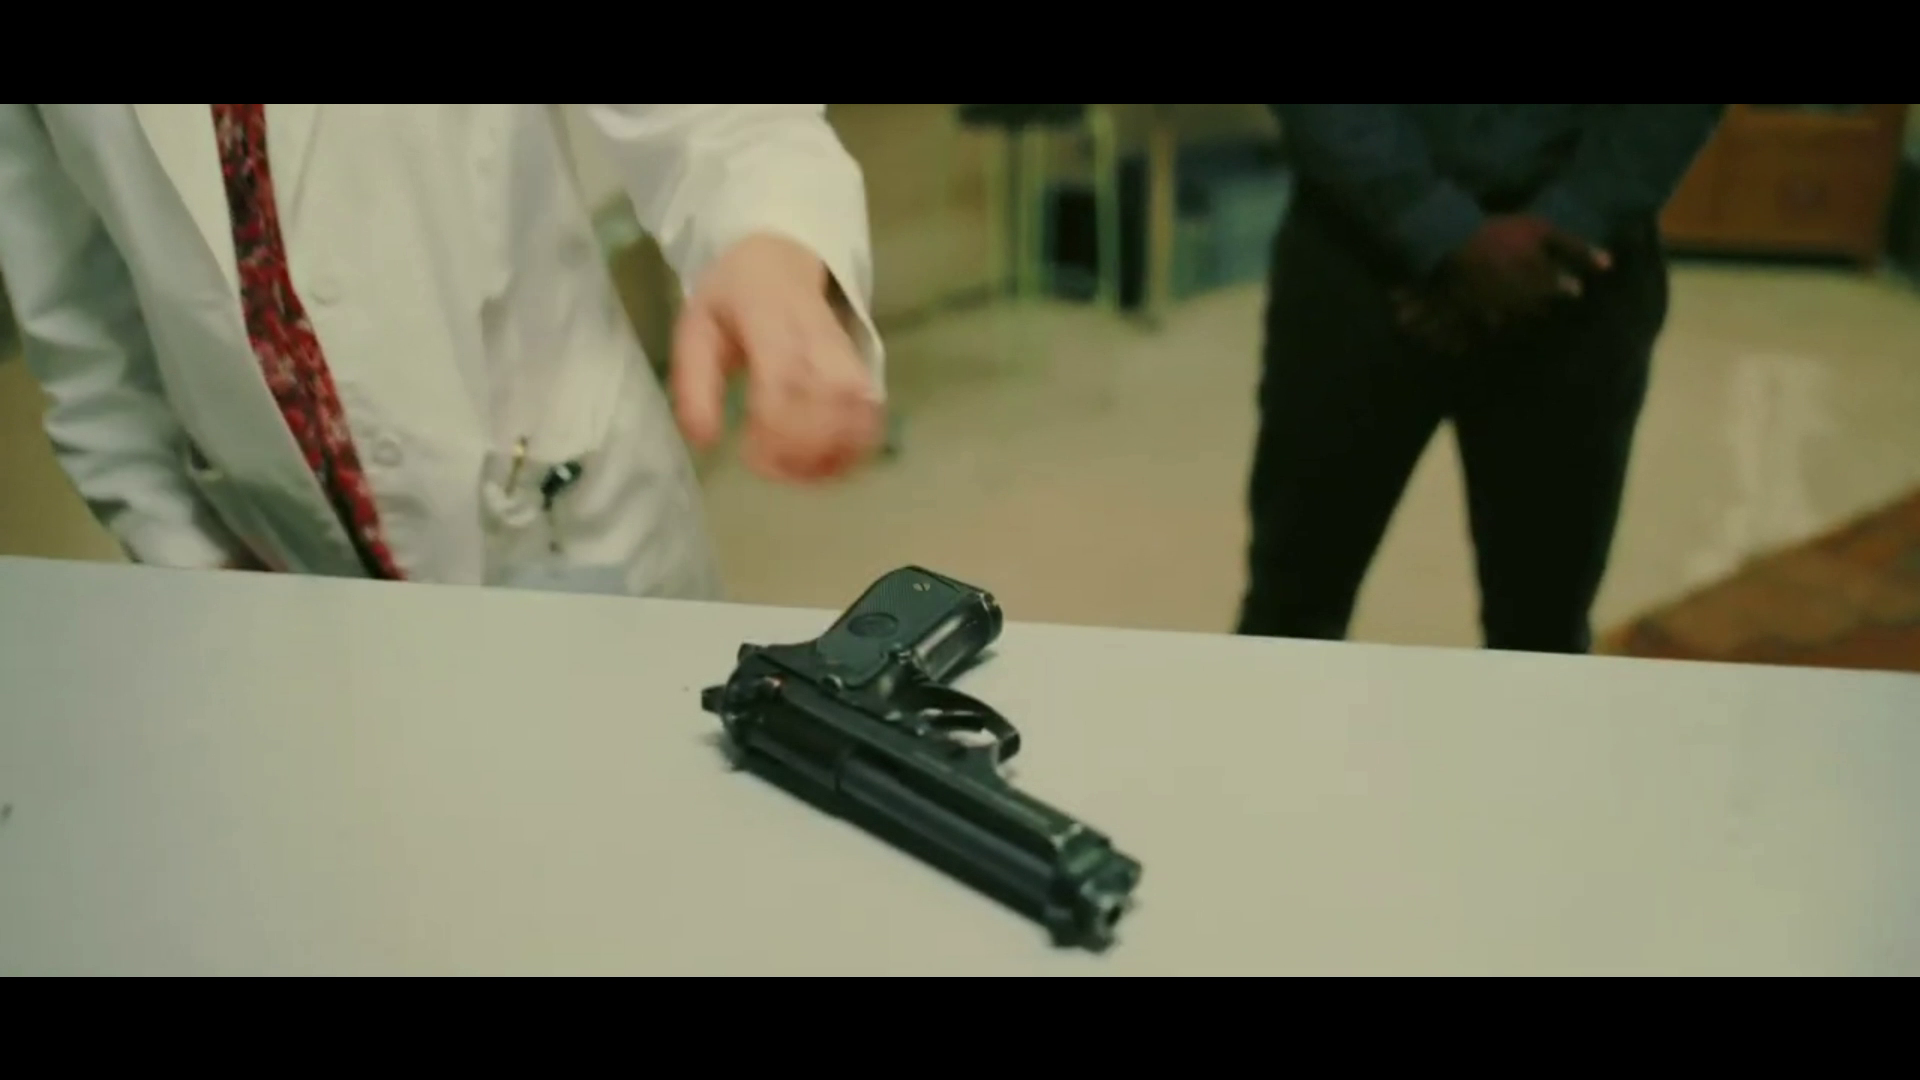SIG P226: (705, 566, 1145, 947)
